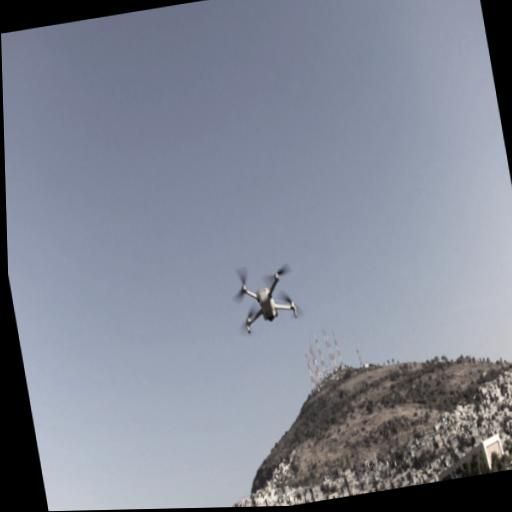drones: (224, 249, 309, 343)
